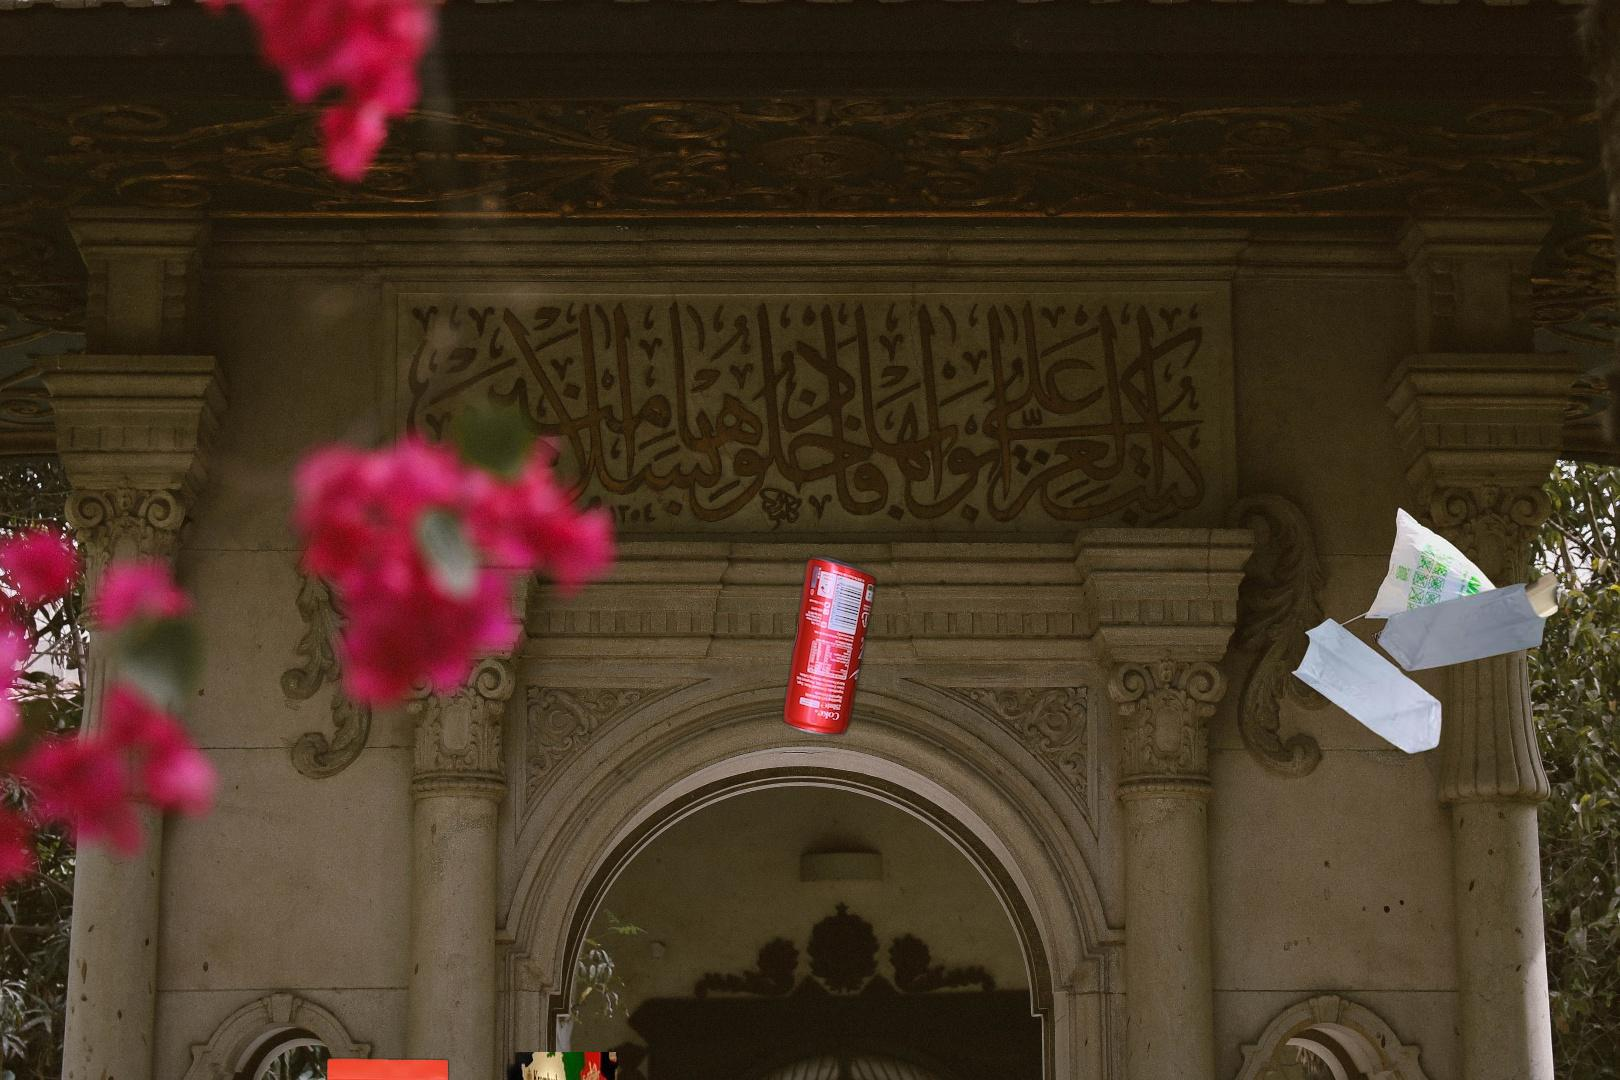metal-cans: (779, 430, 1275, 1068)
paper-bag: (318, 1052, 618, 1080)
plastic-bag: (1290, 505, 1563, 757)
